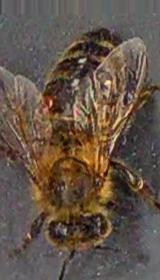varroa_mite: (37, 90, 57, 112)
